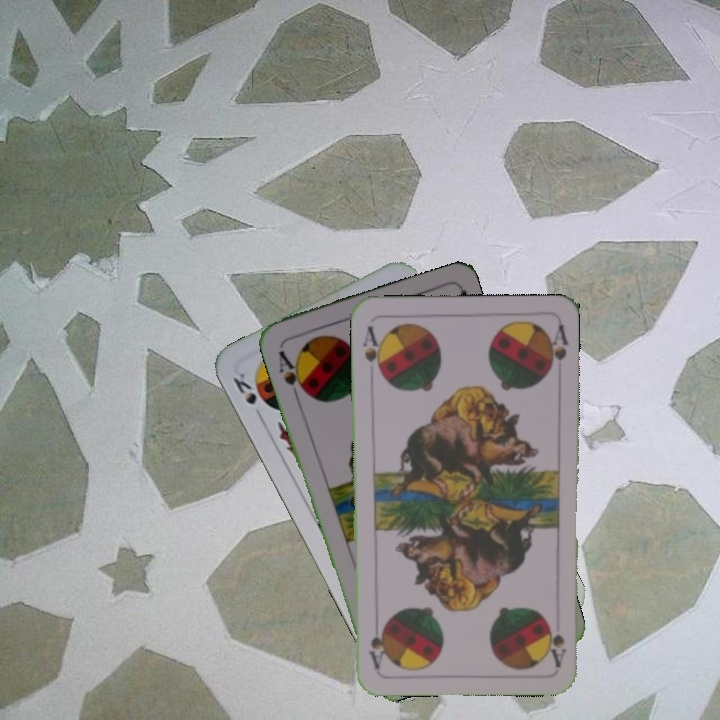SA: (274, 346, 310, 401), (359, 322, 385, 379), (545, 618, 569, 669)
SK: (229, 368, 271, 412)
